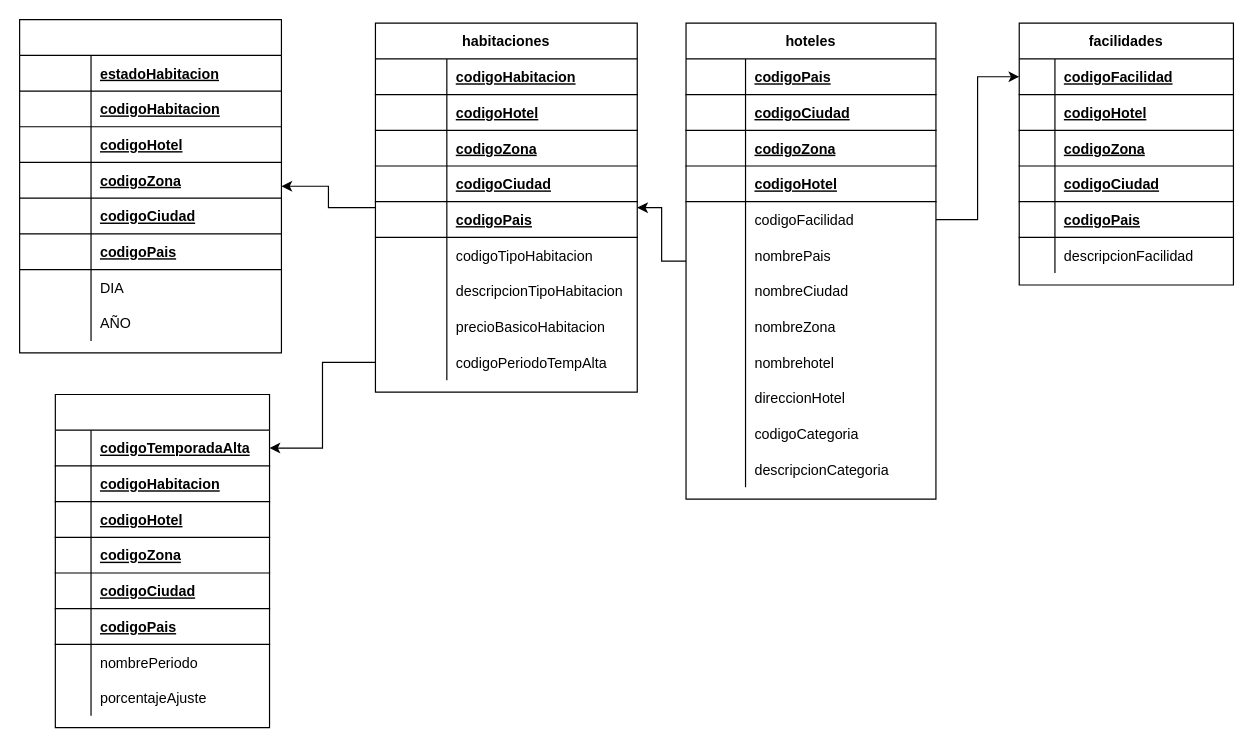
Some shapes in this 1253 by 747 pixel diagram are drawn without their labels. Each missing label, with the box of its shape:
diferencialesTemporadaAlta: (54, 393, 270, 728)
Disponibilidades: (18, 18, 281, 353)
